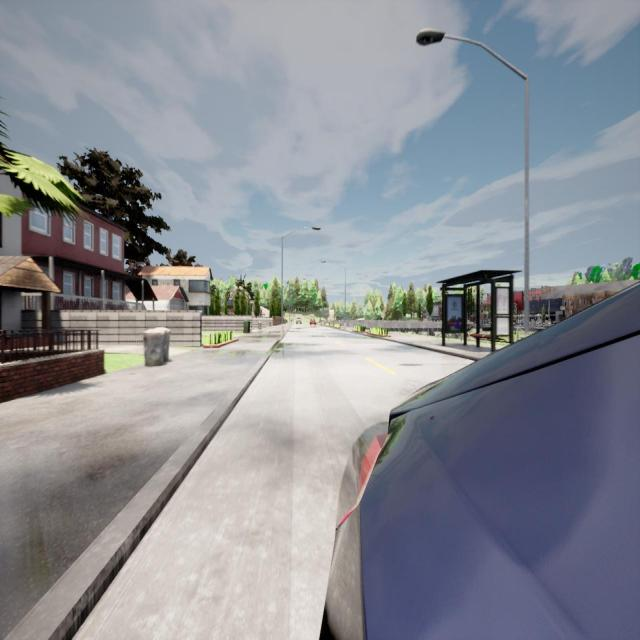Vehicle: (320, 280, 640, 640), (310, 316, 318, 326), (296, 313, 302, 326)
